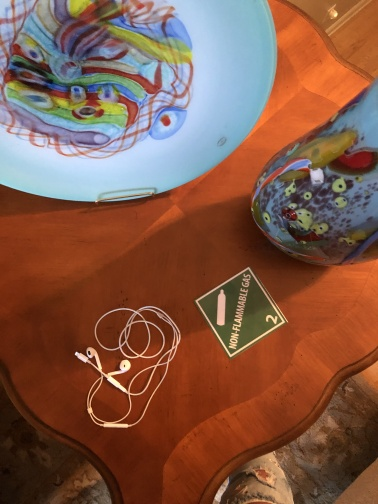NonFlammableGas: (194, 266, 288, 358)
